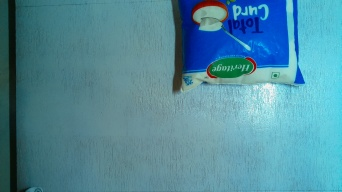m: (172, 1, 307, 93)
